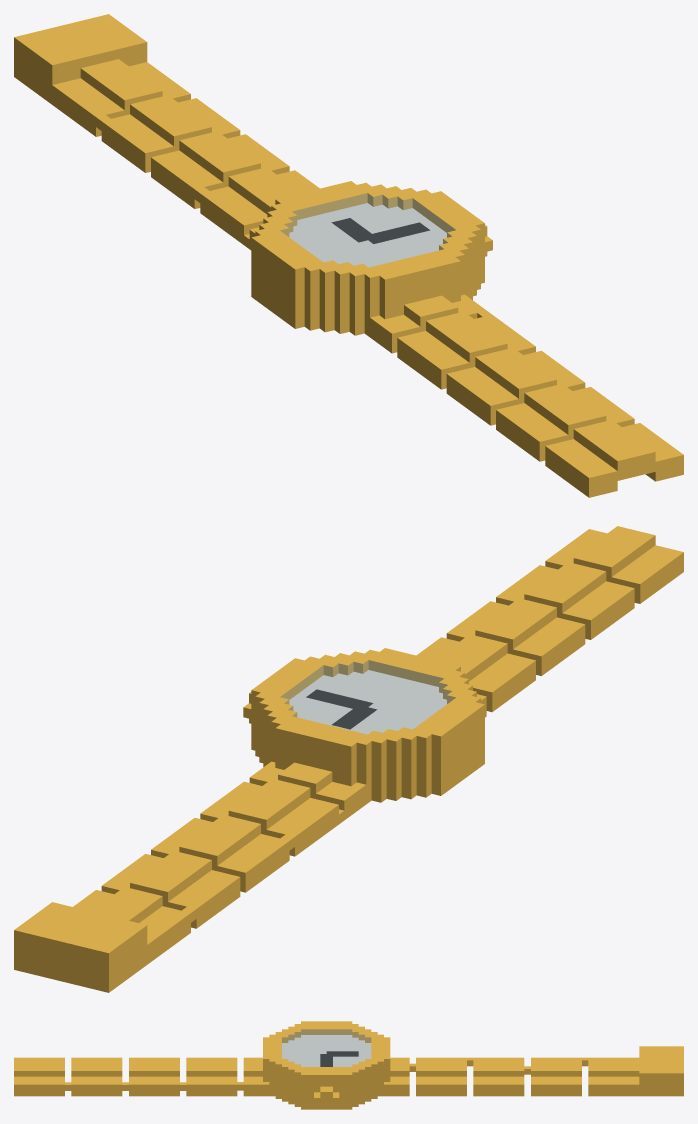
File: gold_watch.glb
3 views of the same model, one above another, from view 1: azimuth 30°, elevation 25°; view 2: azimuth 150°, elevation 25°; view 3: azimuth 270°, elevation 25° (orthographic). The views are drawn at different scales.
Visible parts, largest first — view 1: gold_watch:compound; view 2: gold_watch:compound; view 3: gold_watch:compound.
Part boxes in pixels (x1,y1,x2,y2): gold_watch:compound: (14, 14, 683, 497); gold_watch:compound: (14, 526, 683, 992); gold_watch:compound: (14, 1021, 683, 1109).
Size of the model in its own units: 0.044 by 0.012 by 0.21.
